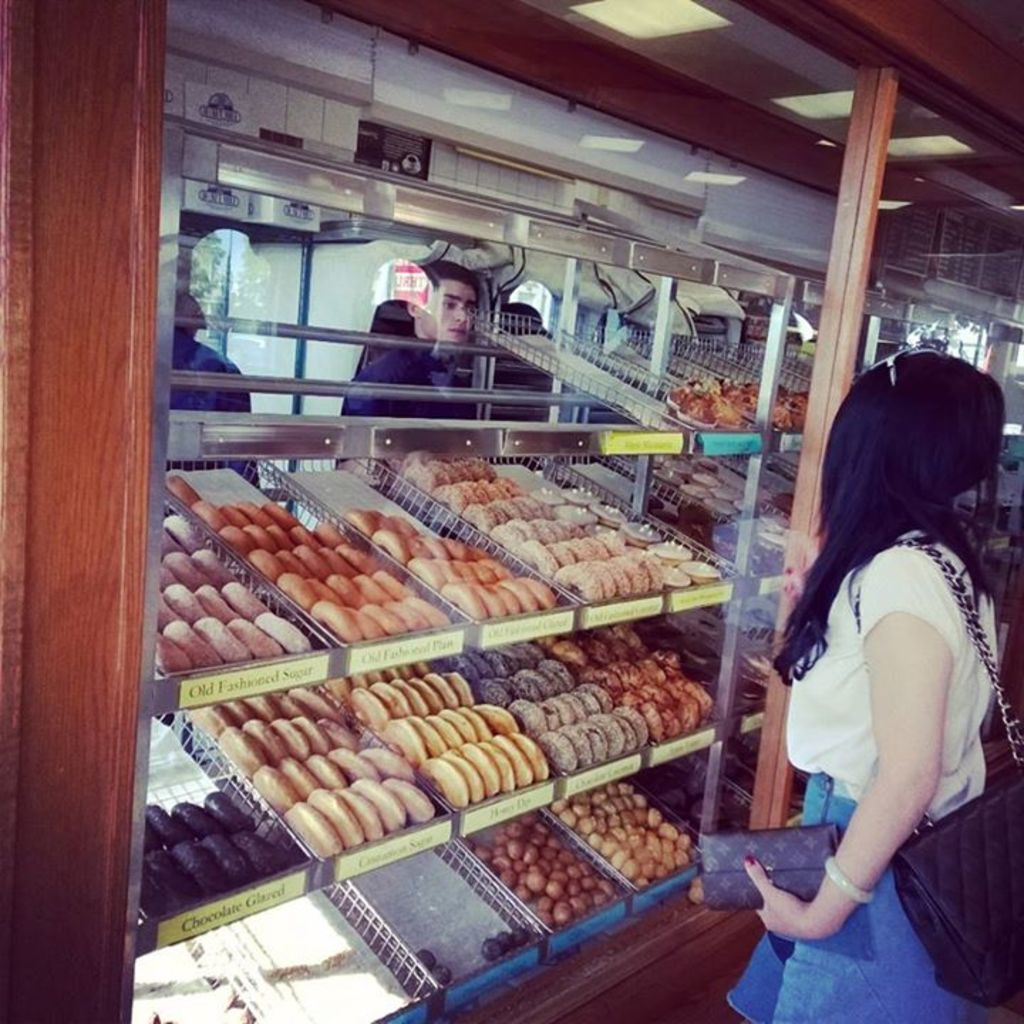Person: (339, 259, 482, 420)
